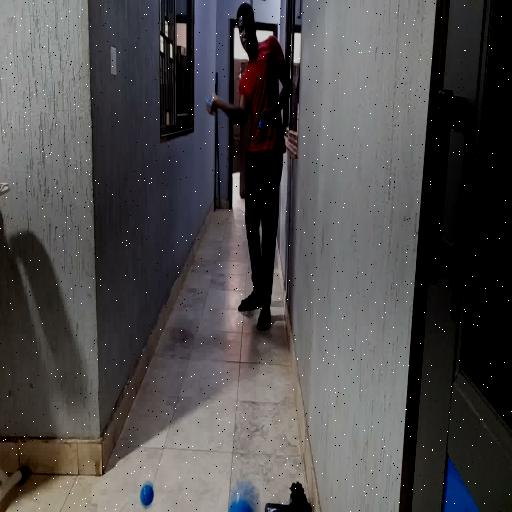plastic-ball: (227, 479, 260, 512)
